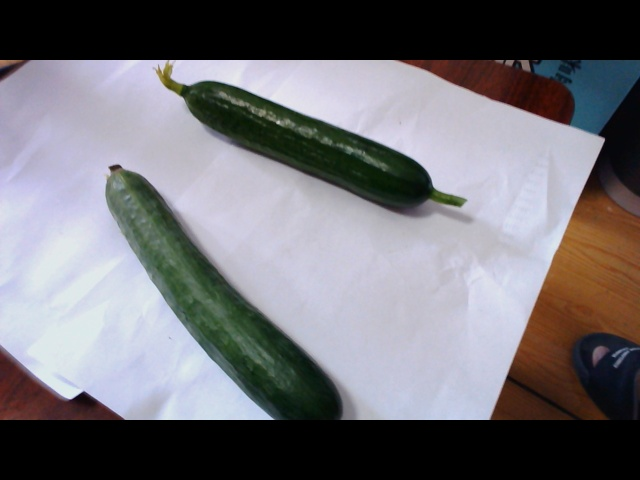cucumber: (104, 155, 351, 422), (181, 65, 469, 210)
